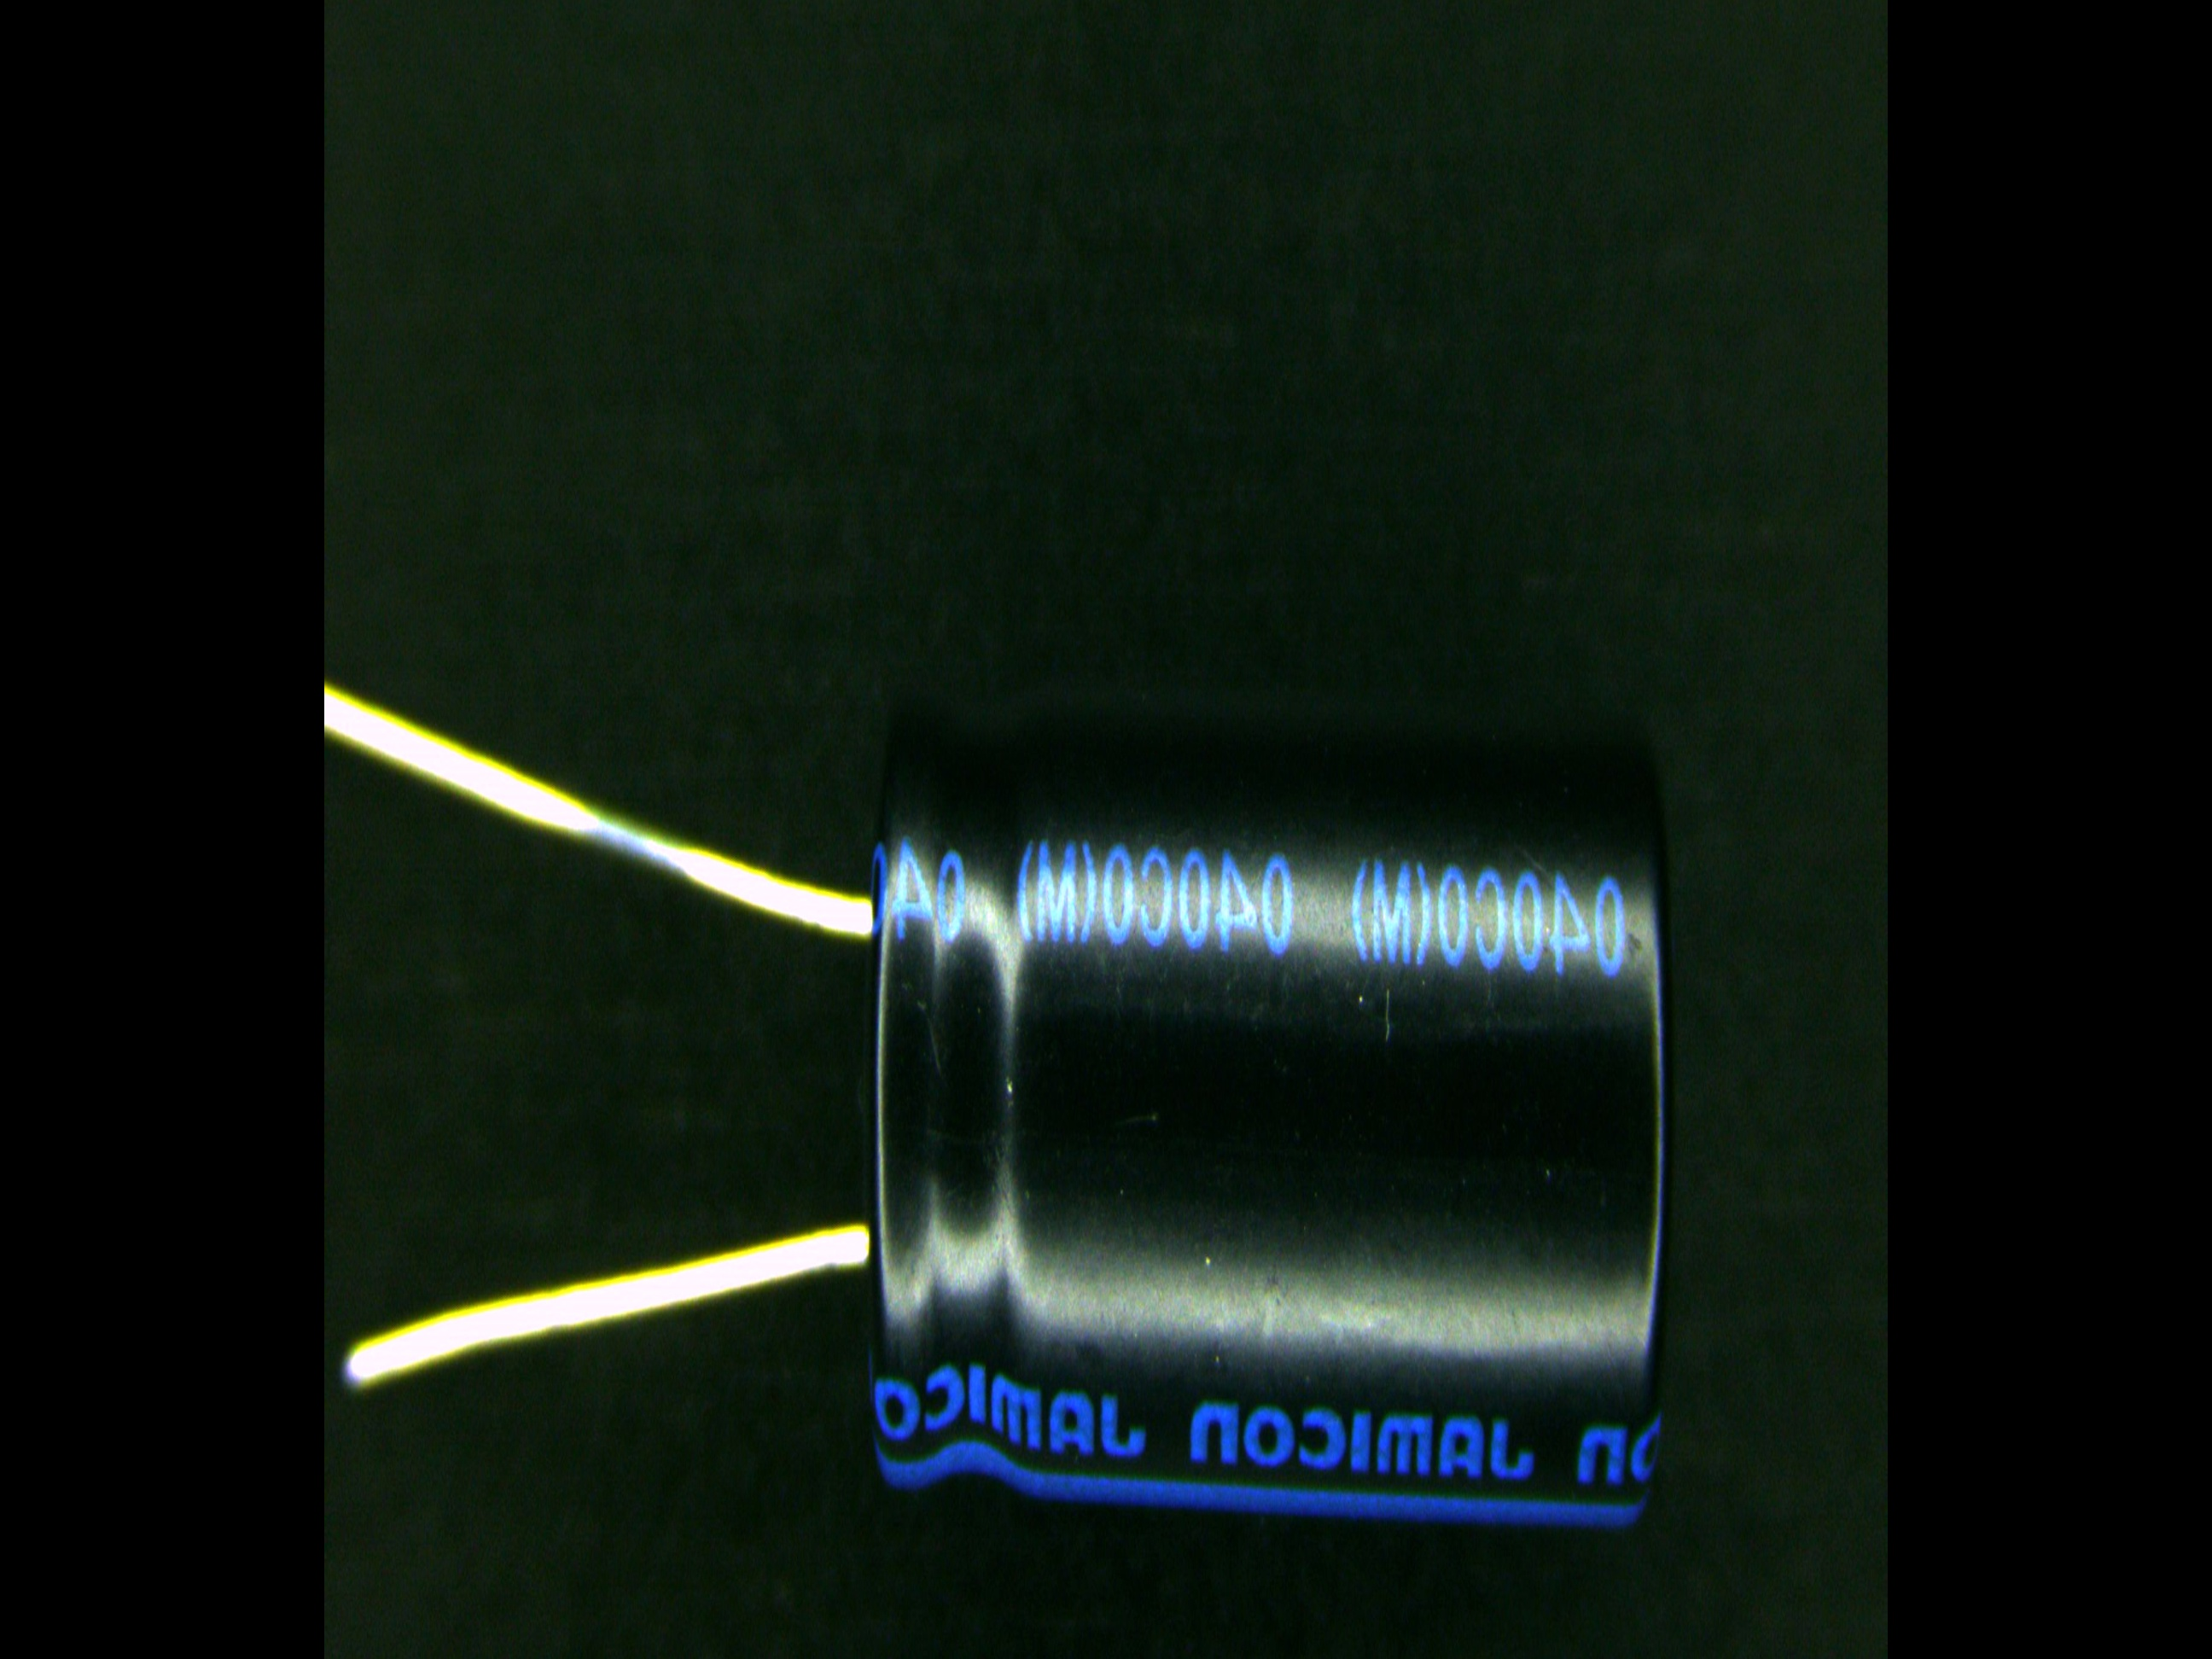c2: (761, 746, 1676, 1532)
